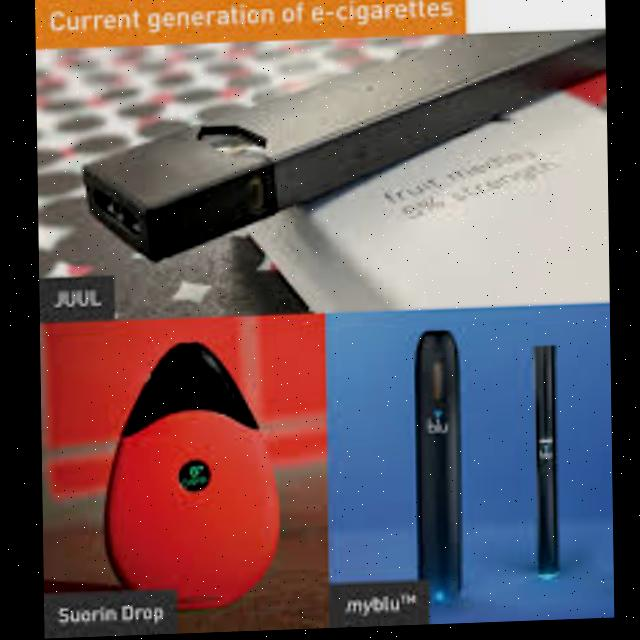vape: (80, 35, 608, 267), (98, 340, 284, 621), (411, 333, 464, 608), (533, 347, 558, 580)
